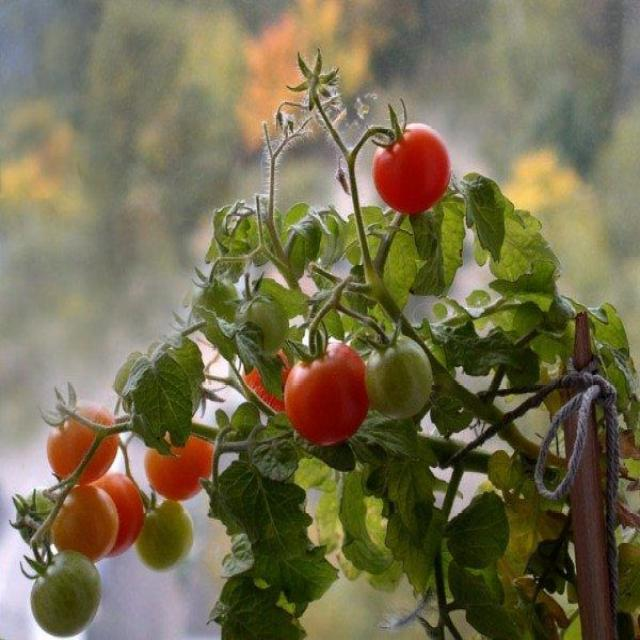level 1: (29, 548, 102, 635), (364, 338, 438, 423)
level 2: (137, 498, 197, 573), (232, 288, 287, 352), (16, 479, 66, 545)
level 4: (52, 485, 116, 567)
level 5: (237, 328, 313, 419), (47, 402, 120, 484), (72, 474, 143, 554), (144, 425, 216, 502)
level 6: (284, 343, 372, 449), (373, 123, 452, 213)
